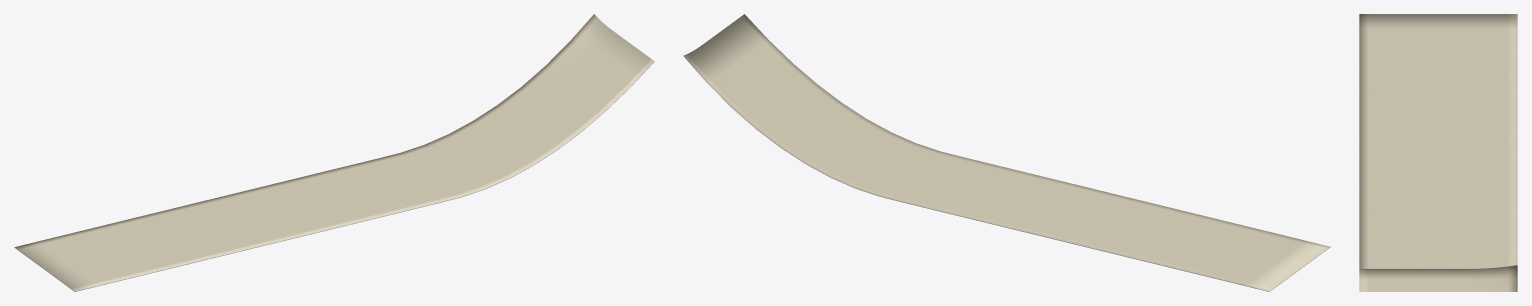
The model's file is note_strip.glb.
The picture shows the model from 3 angles, left to right: view 1: azimuth 30°, elevation 25°; view 2: azimuth 150°, elevation 25°; view 3: azimuth 270°, elevation 25°; orthographic projection. The views are drawn at different scales.
Parts seen in each view (by area): view 1: note_strip__PaperSurface; view 2: note_strip__PaperSurface; view 3: note_strip__PaperSurface.
Boxes of the visible parts, box(x1,y1,x2,y2) form: note_strip__PaperSurface: box(14, 14, 654, 291); note_strip__PaperSurface: box(683, 14, 1330, 291); note_strip__PaperSurface: box(1359, 14, 1517, 291).
Bounding box in the file's own units: 0.41 × 0.0624 × 0.074.
Materials: 2 (2 with a texture image).
